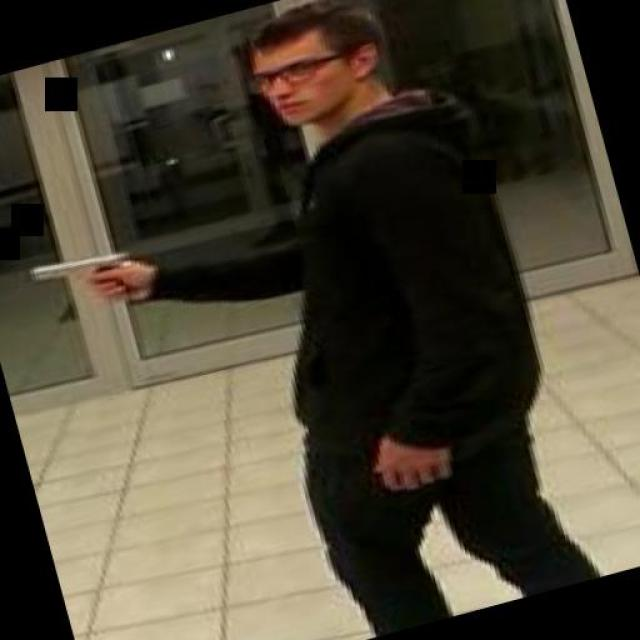gun: (12, 234, 148, 326)
